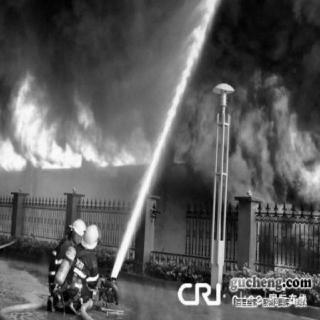Fire: (186, 83, 320, 207), (254, 199, 318, 271)
